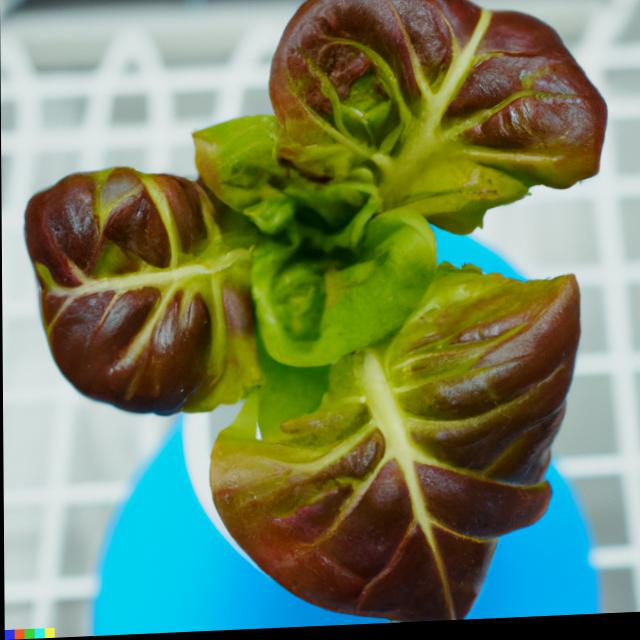-P: (20, 0, 621, 639)
